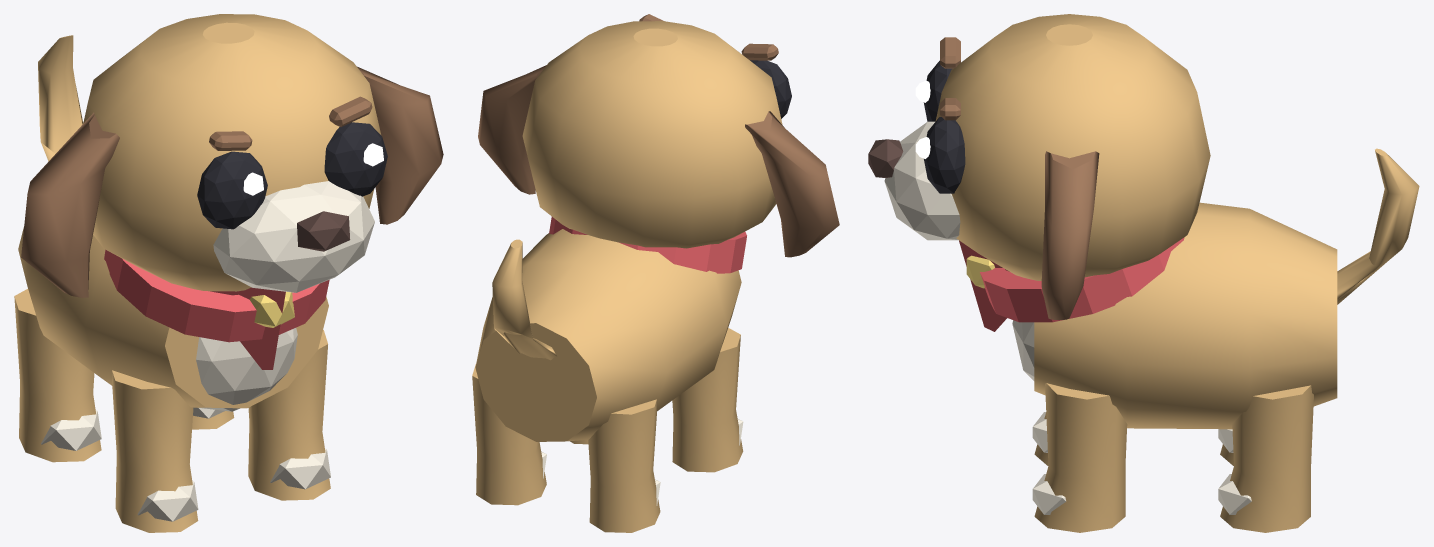
Rendered from TrainingPup.glb.
The picture shows the model from 3 angles, left to right: view 1: azimuth 30°, elevation 25°; view 2: azimuth 150°, elevation 25°; view 3: azimuth 270°, elevation 25°; orthographic projection. The views are drawn at different scales.
Parts seen in each view (by area): view 1: TrainingPup; view 2: TrainingPup; view 3: TrainingPup.
Boxes of the visible parts, x1,y1,x2,y2 form: TrainingPup: (14,14,443,532); TrainingPup: (472,14,839,532); TrainingPup: (868,14,1419,532).
Bounding box in the file's own units: 2.68 × 2.84 × 3.15.
